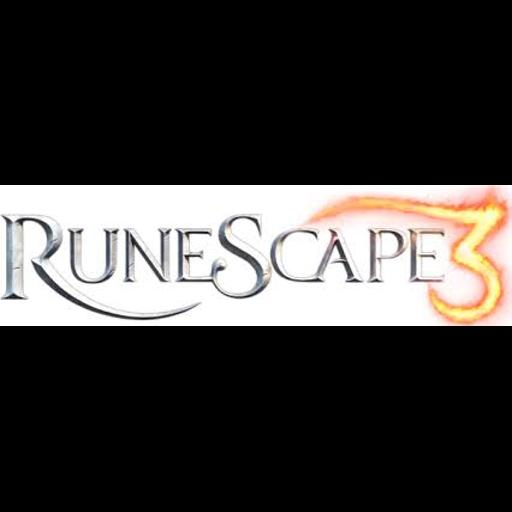RuneScape: (0, 185, 512, 326)
